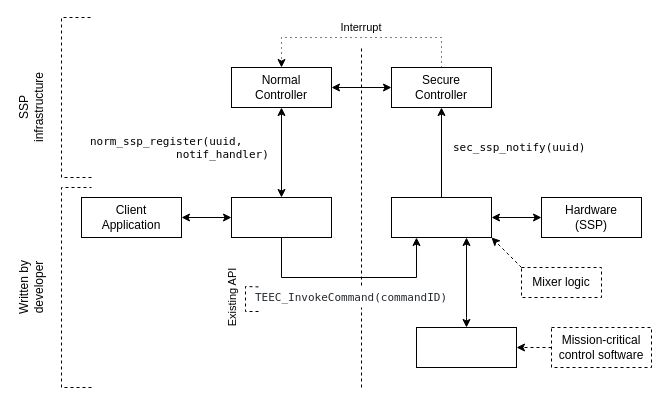
Image size: 669x406. Some labels were removed from this diagram. Each missing label, with the centre of its shape:
"Normal SSP Driver" belongs at [281,217].
"Secure SSP Driver" belongs at [441,217].
"Trusted Application" belongs at [466,347].
